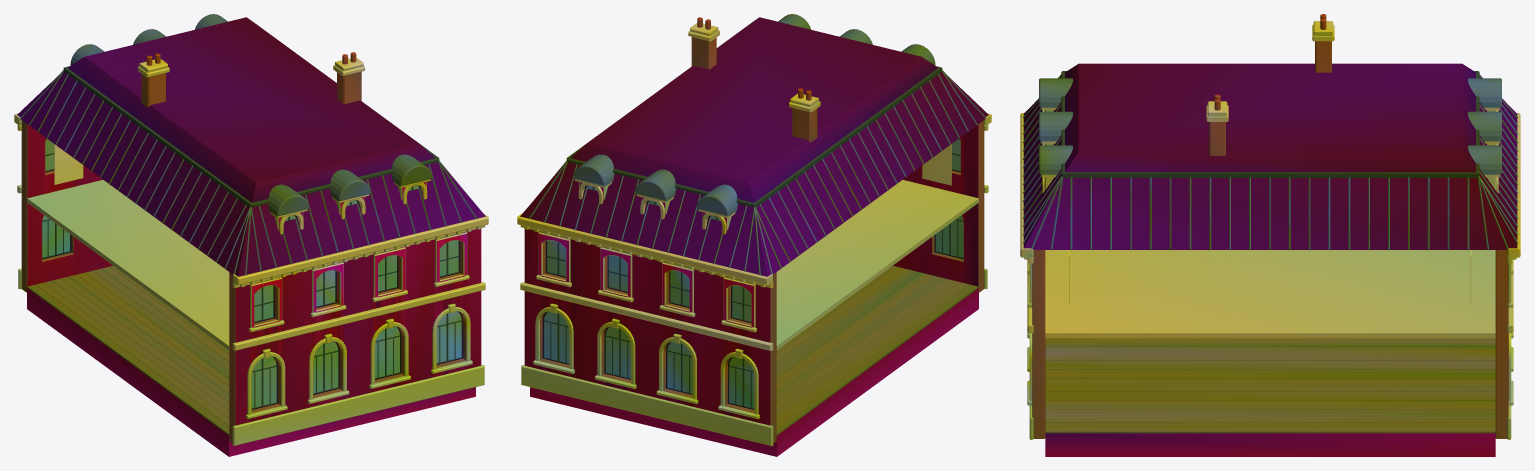
The model's file is GS_Wing_Link.fbx.
3 views of the same model, side by side, from view 1: azimuth 30°, elevation 25°; view 2: azimuth 150°, elevation 25°; view 3: azimuth 270°, elevation 25° (orthographic). The views are drawn at different scales.
Parts seen in each view (by area): view 1: GS_Wing_Link; view 2: GS_Wing_Link; view 3: GS_Wing_Link.
Part boxes in pixels (<box>): GS_Wing_Link: <box>14,14,488,456</box>; GS_Wing_Link: <box>517,14,991,456</box>; GS_Wing_Link: <box>1020,14,1520,456</box>.
Size of the model in its own units: 12.2 by 13.85 by 18.9.
